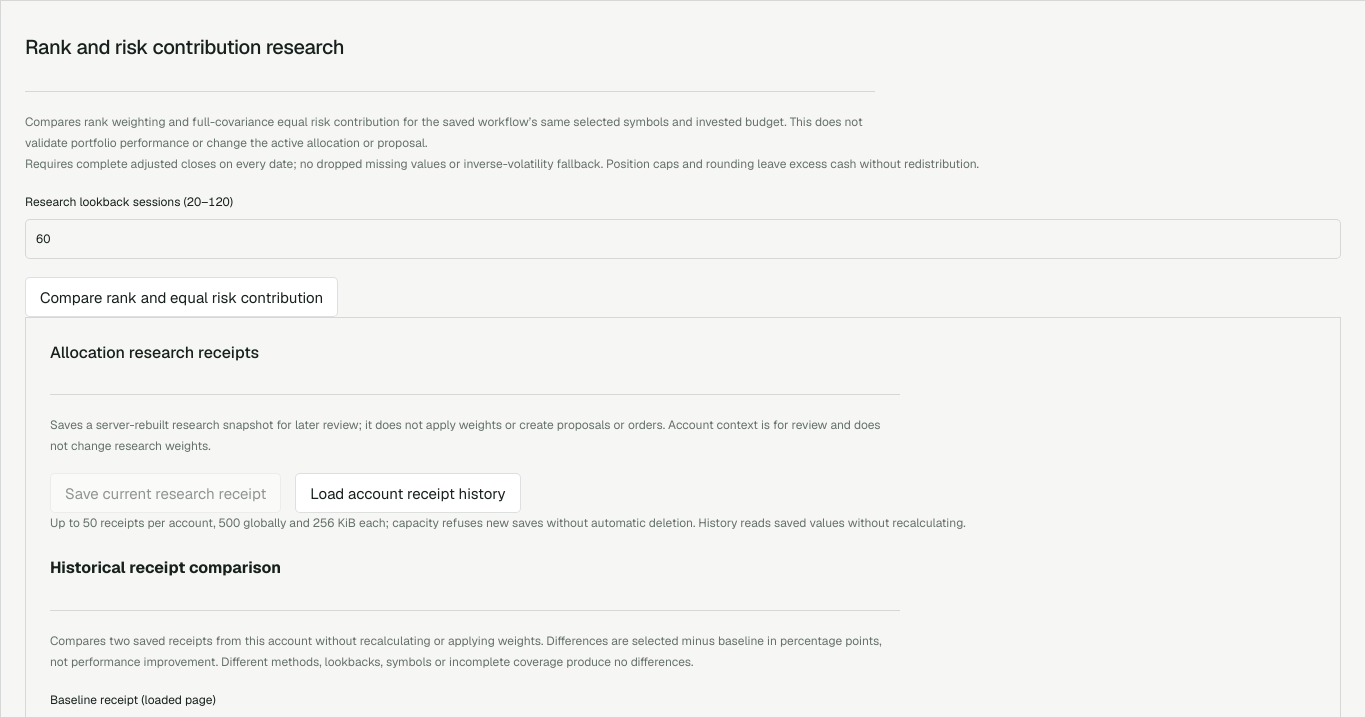
rejects invalid lookback 19 without sending a calculation
Replace the text in the number field labelled "Research lookback sessions (20–120)" with "19": (683, 239) [25, 219, 1341, 259]
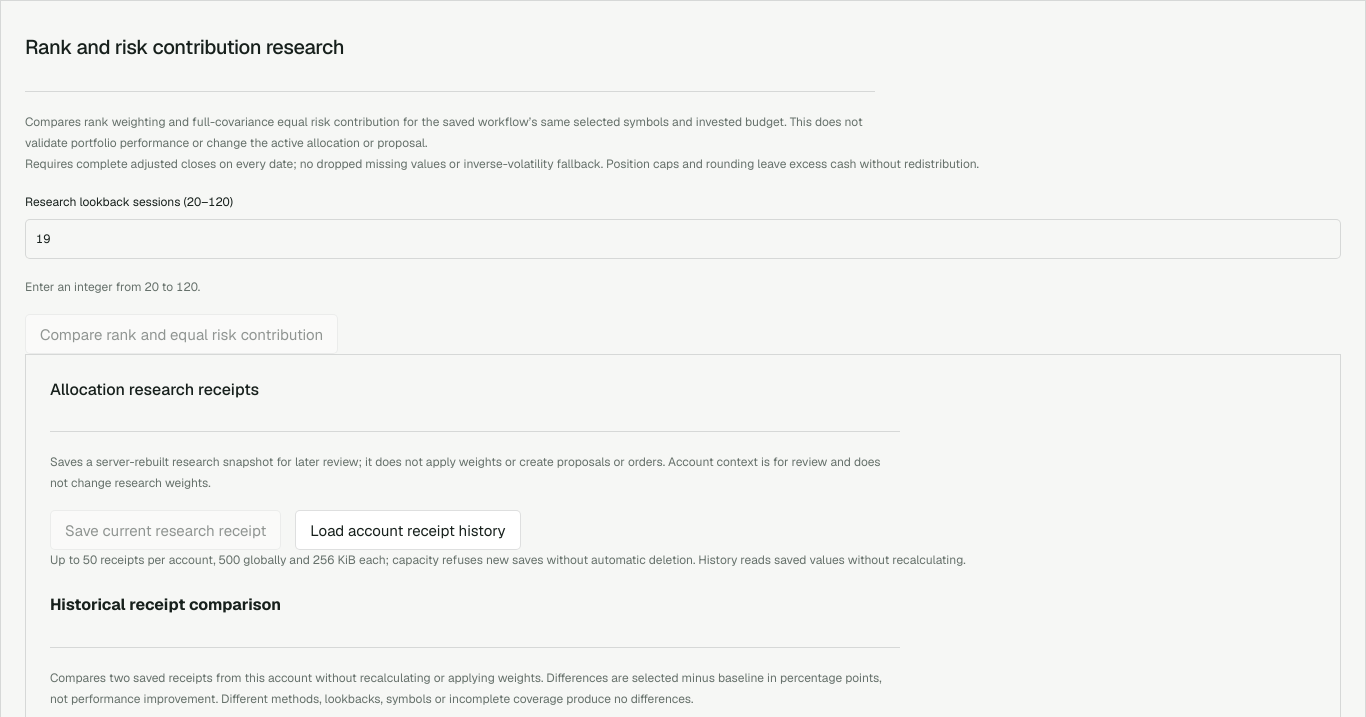
Expected: the button "Compare rank and equal risk contribution" is disabled, [25, 314, 338, 354]
Expected: the message reads "Enter an integer from 20 to 120.", [25, 279, 200, 295]
